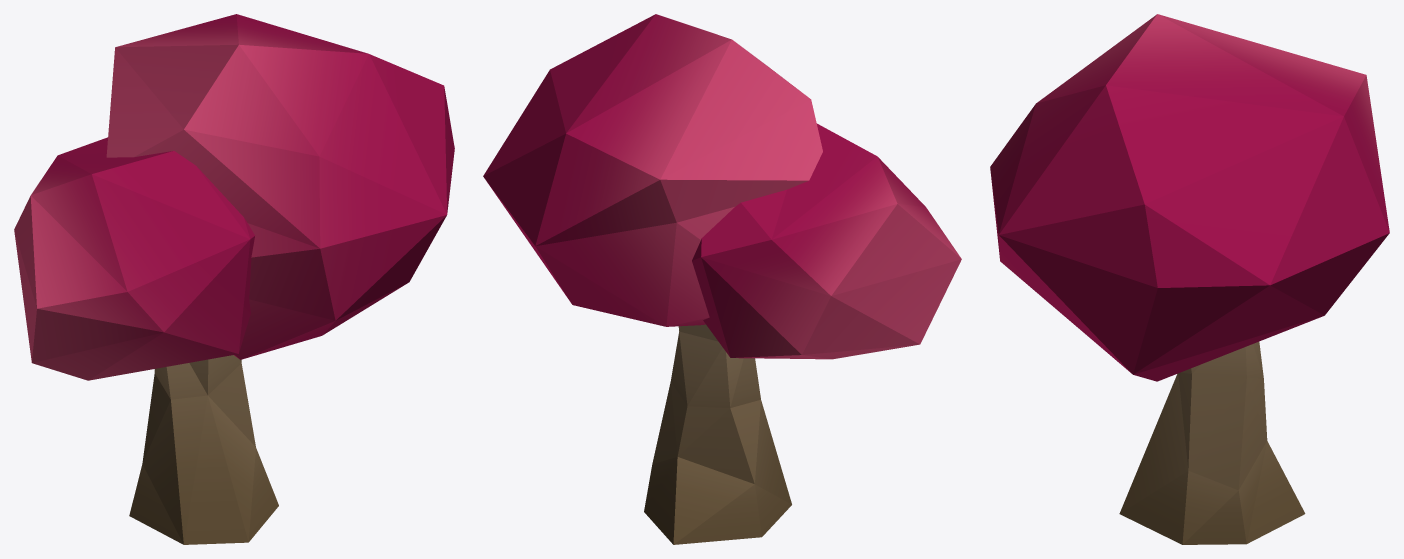
Rendered from Tree_RedPlum.fbx.
3 renders of one model, left to right at view 1: azimuth 30°, elevation 25°; view 2: azimuth 150°, elevation 25°; view 3: azimuth 270°, elevation 25°, orthographic. The views are drawn at different scales.
Parts seen in each view (by area): view 1: Tree_RedPlum; view 2: Tree_RedPlum; view 3: Tree_RedPlum.
Boxes of the visible parts, <box> form: Tree_RedPlum: <box>14,14,454,544</box>; Tree_RedPlum: <box>483,14,961,544</box>; Tree_RedPlum: <box>990,14,1389,544</box>.
Size of the model in its own units: 4.57 by 4.8 by 3.45.
1 material, 1 textured.
